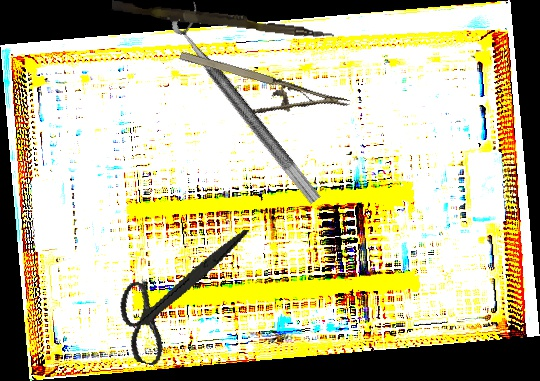Fixation Ring: (166, 0, 337, 206)
Iris Scissors: (107, 204, 251, 381)
Needle Holder: (170, 46, 352, 141)
Pusher: (110, 0, 336, 40)
